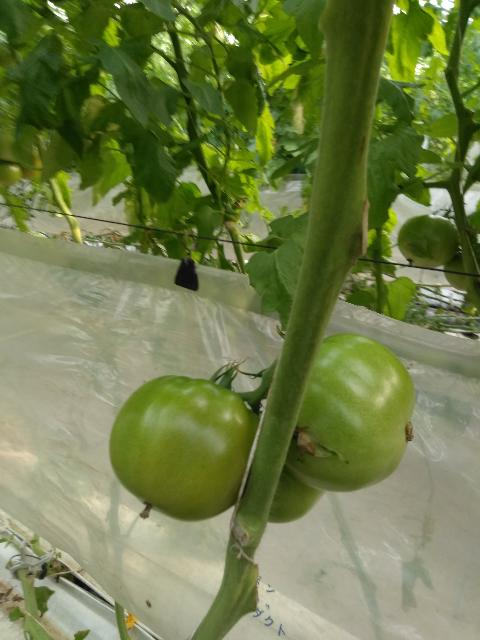b_green: (108, 375, 260, 523), (283, 334, 415, 493), (267, 466, 327, 524), (398, 215, 459, 268), (443, 252, 469, 291), (0, 161, 22, 188)
